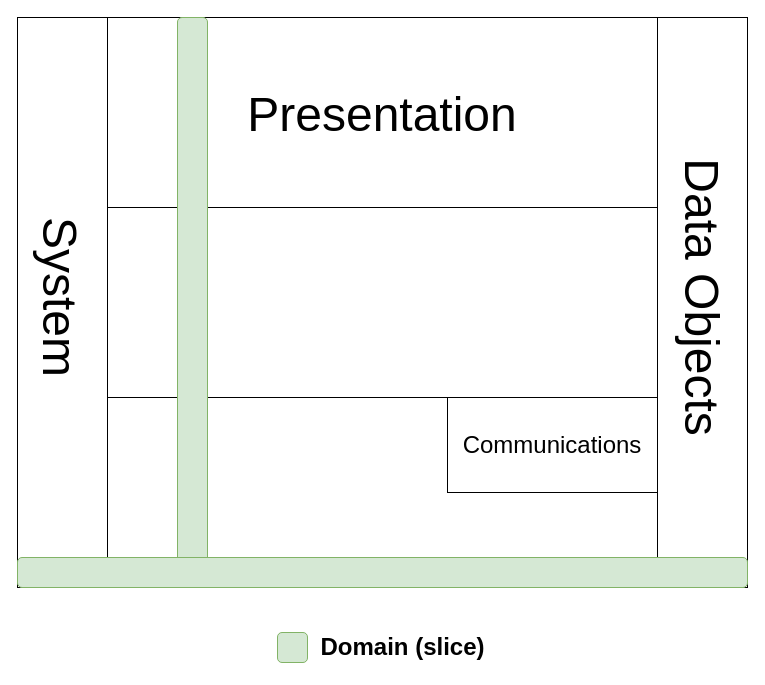
Image size: 765x685. Some labels were removed from this diagram. Each missing label, with the box of its shape:
Data: (106, 396, 658, 588)
Processing: (106, 206, 658, 398)
